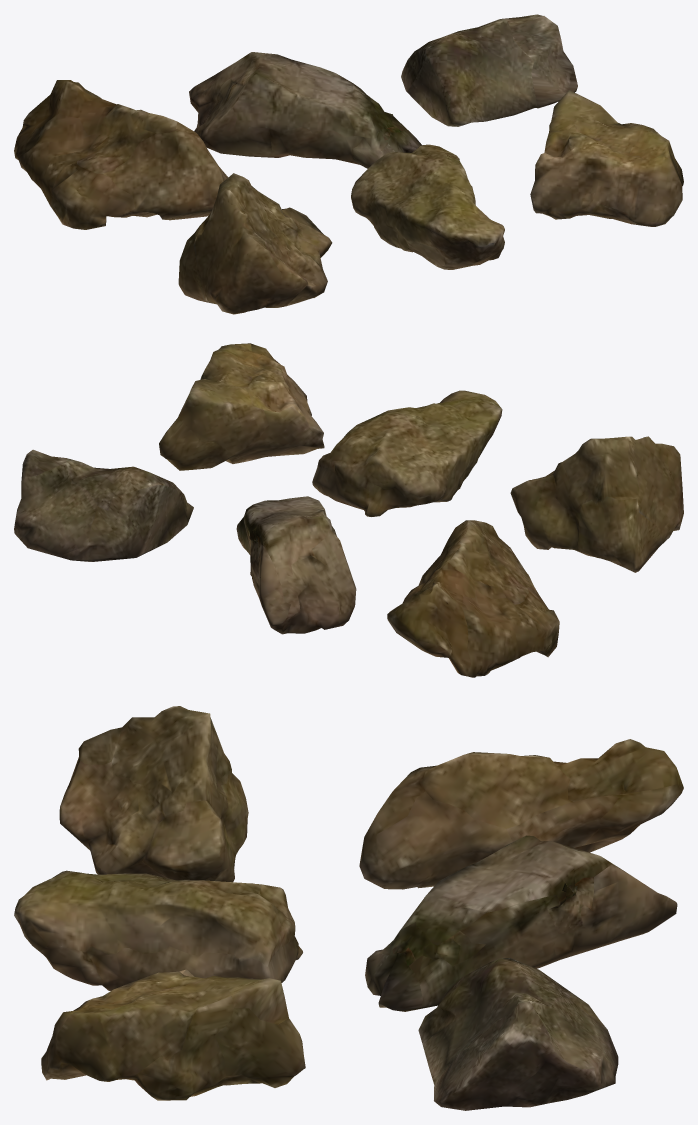
Rendered from rock_moss_set_01.glb.
3 renders of one model, top to bottom at view 1: azimuth 30°, elevation 25°; view 2: azimuth 150°, elevation 25°; view 3: azimuth 270°, elevation 25°, orthographic. The views are drawn at different scales.
Visible parts, largest first — view 1: rock_moss_set_01_rock01, rock_moss_set_01_rock02, rock_moss_set_01_rock06, rock_moss_set_01_rock04, rock_moss_set_01_rock03, rock_moss_set_01_rock05; view 2: rock_moss_set_01_rock04, rock_moss_set_01_rock01, rock_moss_set_01_rock05, rock_moss_set_01_rock03, rock_moss_set_01_rock06, rock_moss_set_01_rock02; view 3: rock_moss_set_01_rock01, rock_moss_set_01_rock02, rock_moss_set_01_rock05, rock_moss_set_01_rock04, rock_moss_set_01_rock06, rock_moss_set_01_rock03.
Boxes of the visible parts, x1,y1,x2,y2 form: rock_moss_set_01_rock01: (14,80,227,229); rock_moss_set_01_rock02: (189,52,421,168); rock_moss_set_01_rock06: (530,90,683,226); rock_moss_set_01_rock04: (178,173,332,314); rock_moss_set_01_rock03: (401,14,577,126); rock_moss_set_01_rock05: (351,144,504,269); rock_moss_set_01_rock04: (510,436,683,572); rock_moss_set_01_rock01: (387,520,559,677); rock_moss_set_01_rock05: (312,390,502,516); rock_moss_set_01_rock03: (14,449,193,561); rock_moss_set_01_rock06: (159,343,324,470); rock_moss_set_01_rock02: (236,496,356,634); rock_moss_set_01_rock01: (359,739,683,889); rock_moss_set_01_rock02: (365,835,677,1011); rock_moss_set_01_rock05: (14,870,302,990); rock_moss_set_01_rock04: (59,706,248,882); rock_moss_set_01_rock06: (41,969,305,1100); rock_moss_set_01_rock03: (418,958,618,1110).
Size of the model in its own units: 8 by 1.76 by 6.94.
1 material, 1 textured.
